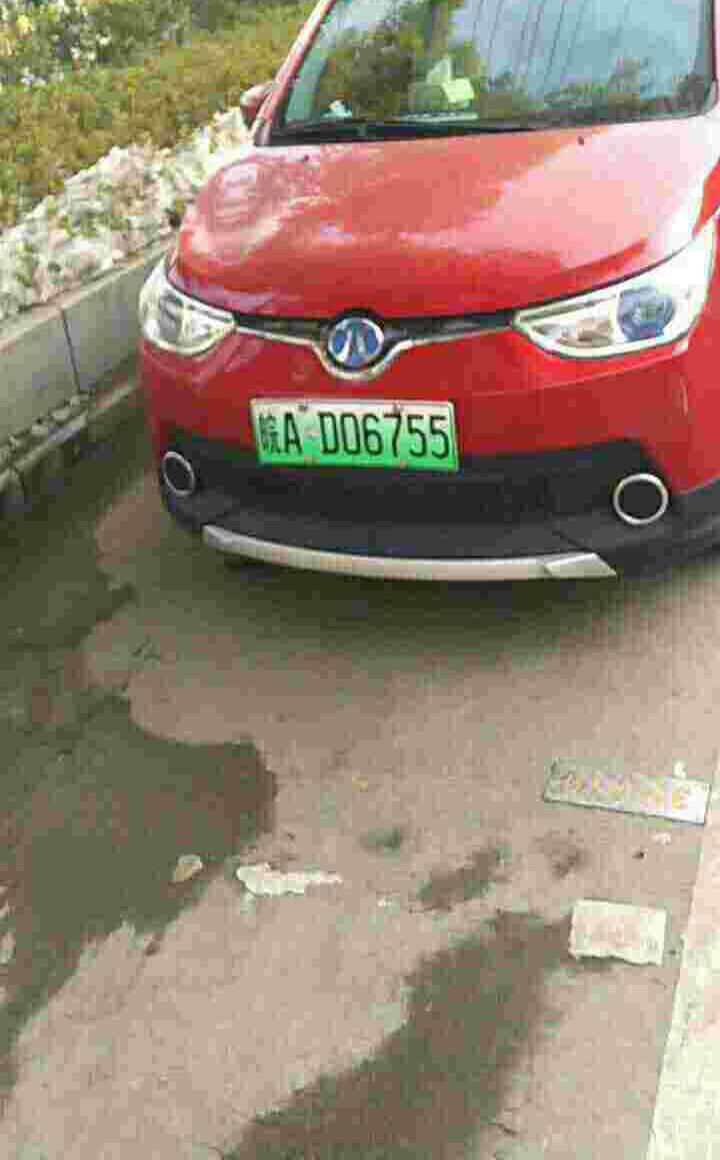car: (242, 394, 468, 480)
